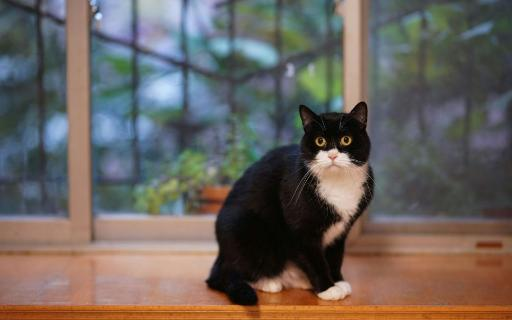cat_sitting: (207, 102, 374, 304)
